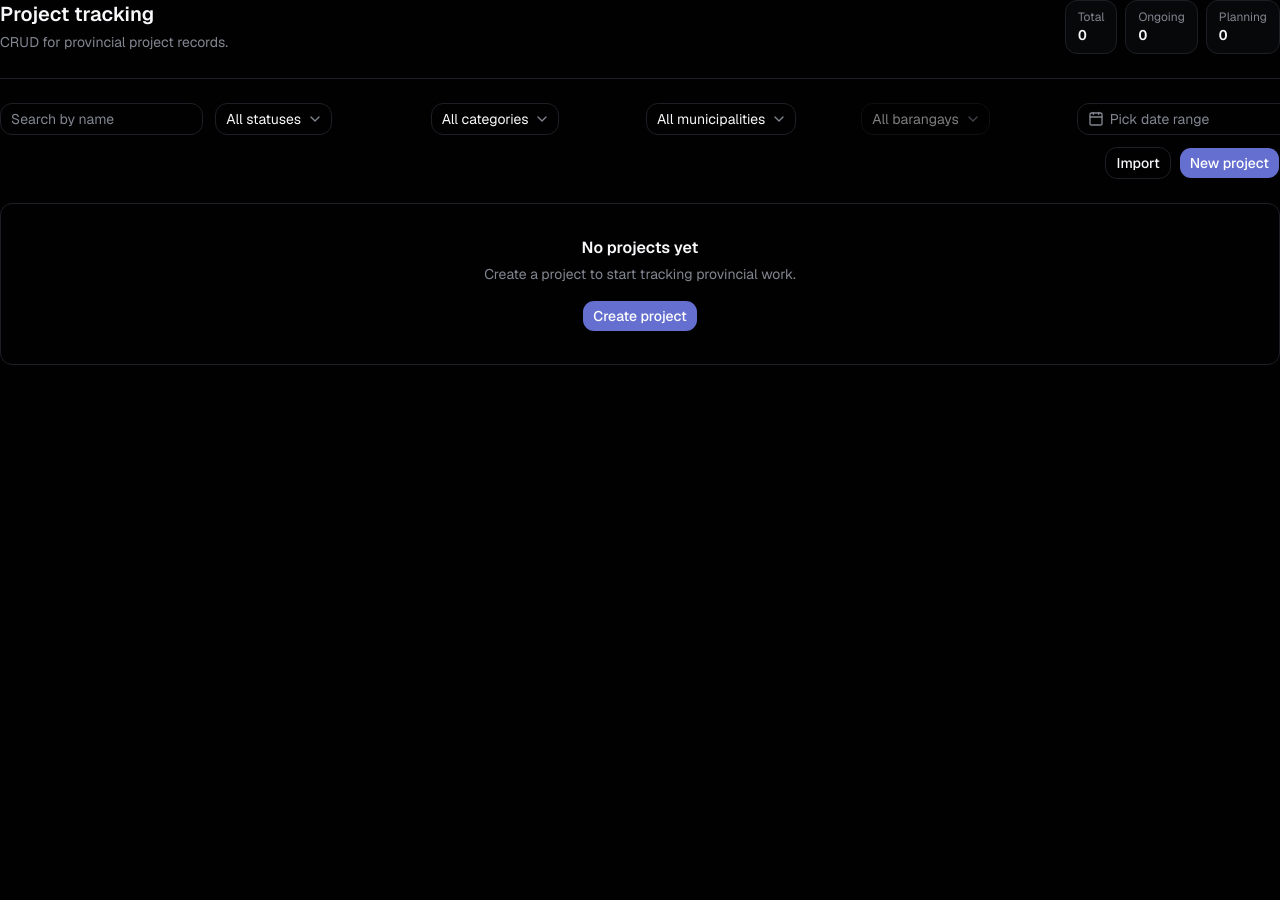
Test: ProjectsModule (J4) › uses Resolution as the project agreement document label
Click the button with test id "create-project" at (1229, 163), box 1179,147 -> 1279,179
(page scrolled)
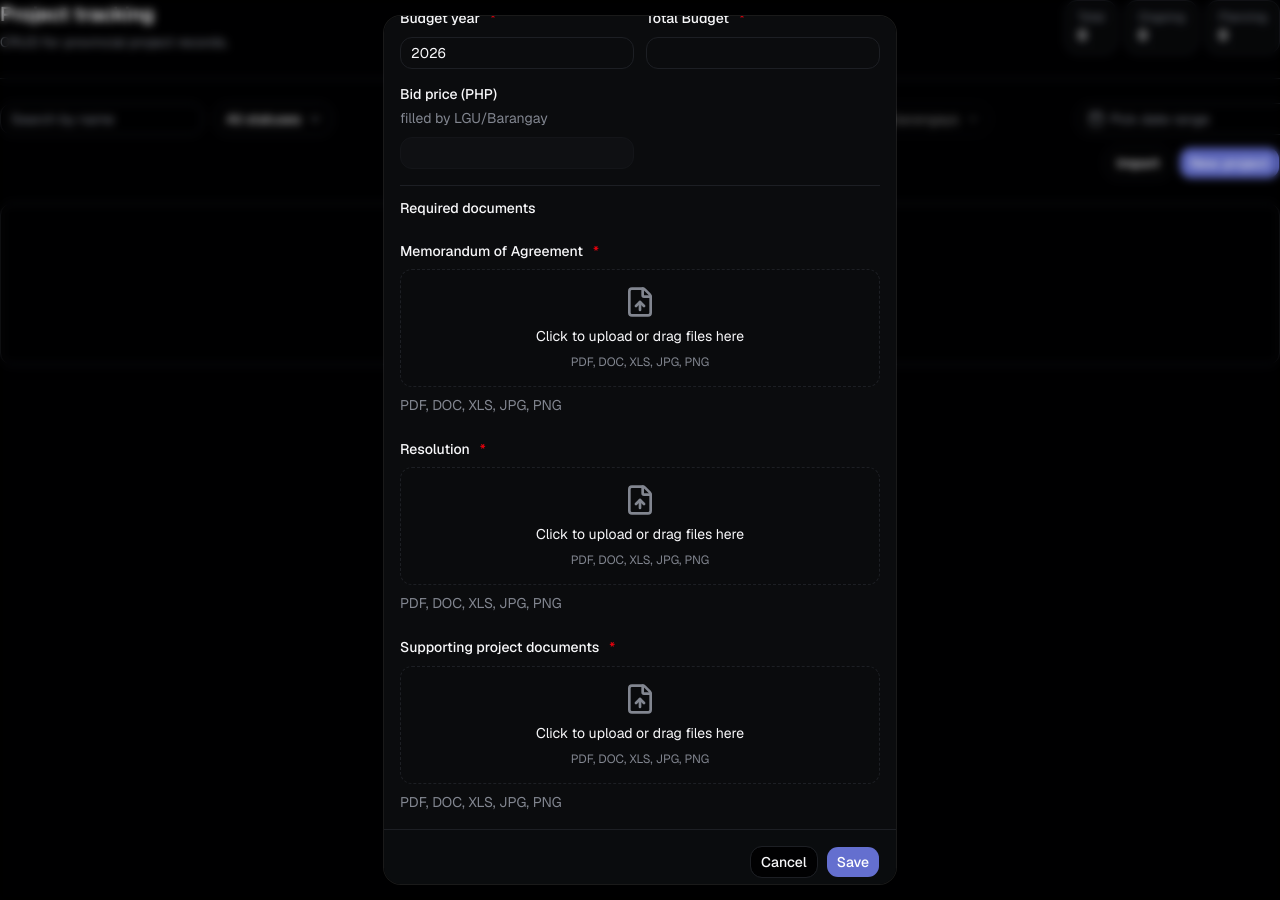
Expected: the file field "Resolution" is shown, 400,440 -> 470,458
